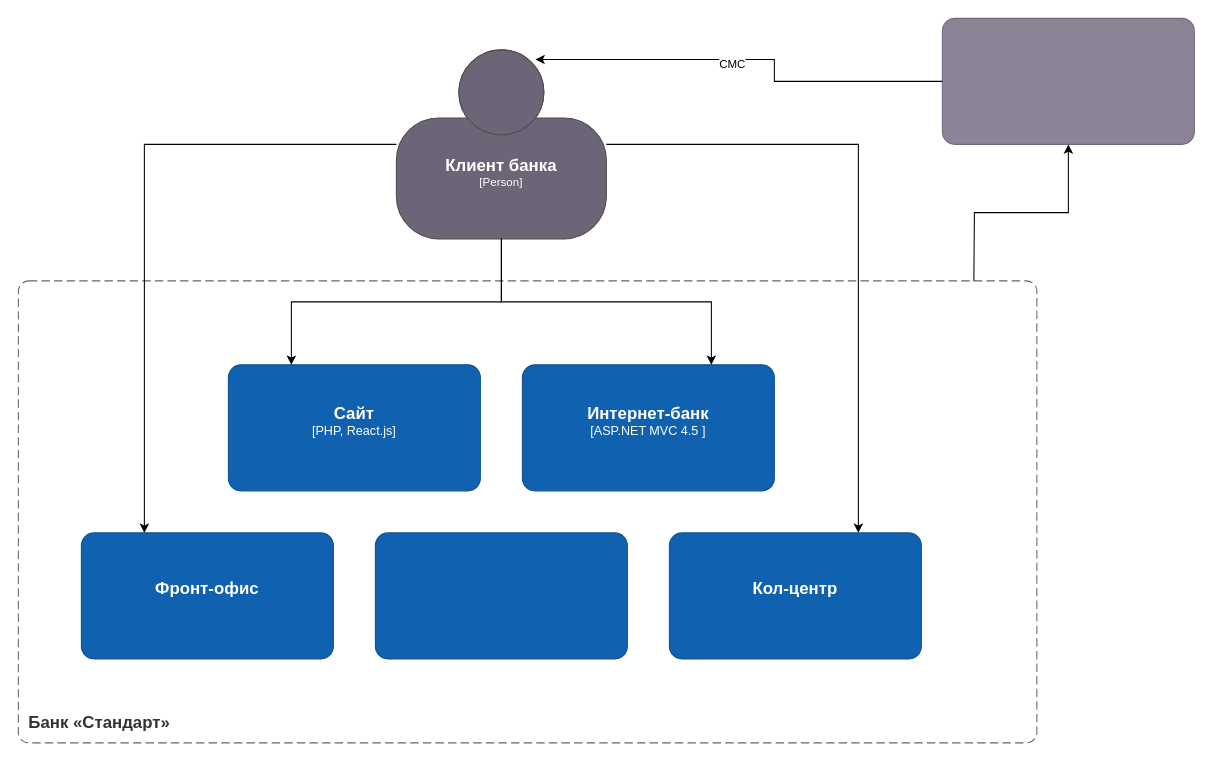
This 1213x761 diagram has some shape labels left out. The box of each missing label's shape, as (x1, y1, x2, y2) in pixels:
Бек-офис: (374, 532, 627, 659)
Телеком оператор [Software System]: (941, 17, 1194, 144)
